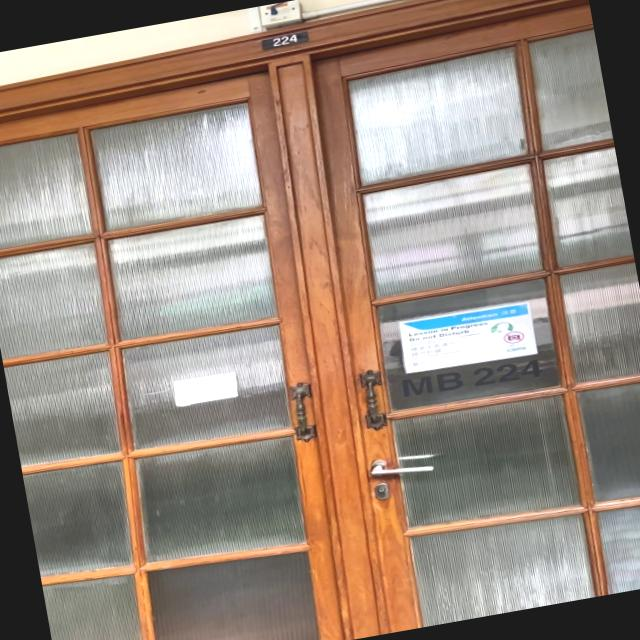room224: (259, 30, 312, 50)
room224Window: (393, 350, 558, 406)
